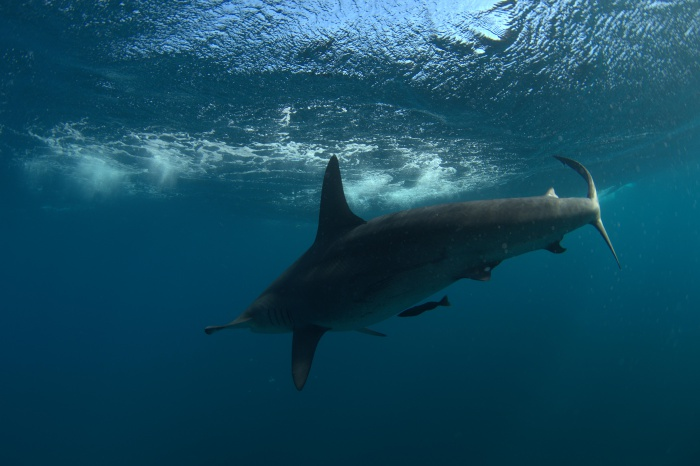Hammer: (206, 143, 627, 400)
